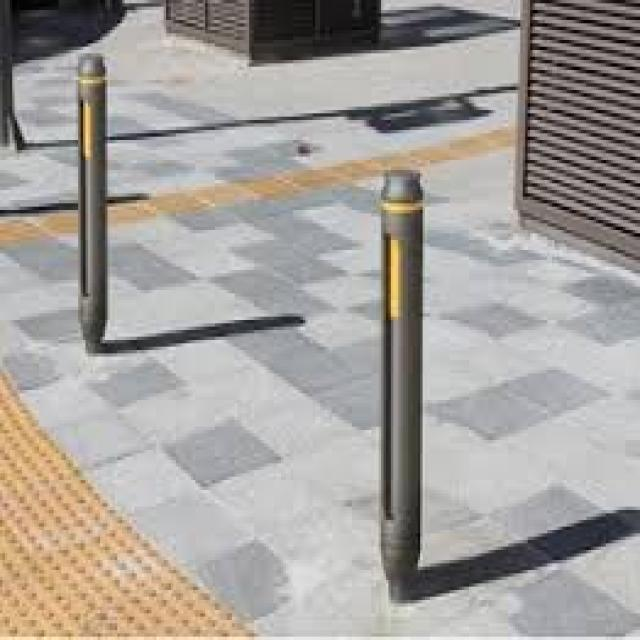bollard: (374, 150, 431, 608), (70, 47, 116, 361)
